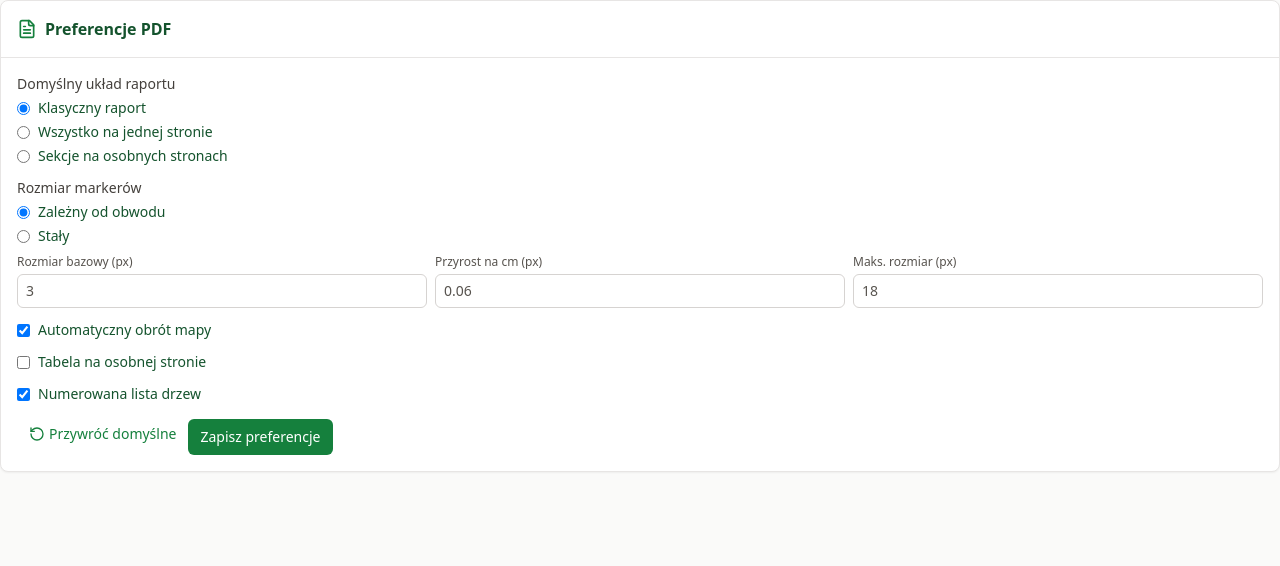
PdfPrefsEditor › should reject maxSize below baseSize
The image size is (1280, 566).
Replace the text in the number field with test id "config-marker-max" with "1" at (1058, 291), box [853,274,1263,308]
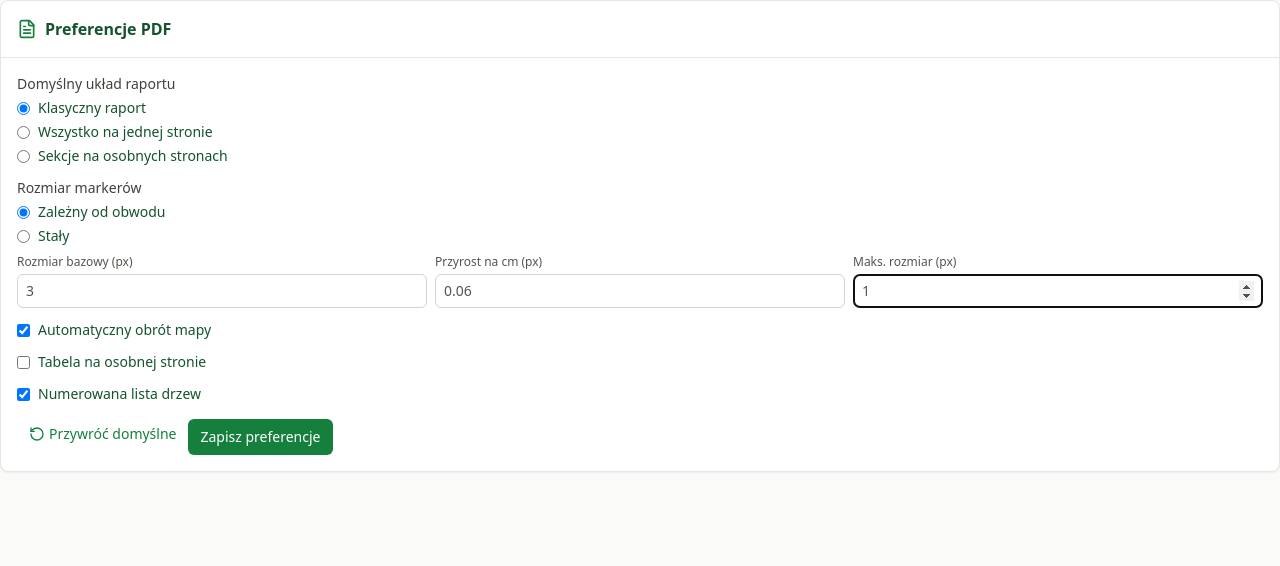
Click the button with test id "pdf-prefs-save".
click(260, 437)  # box [188,419,332,455]
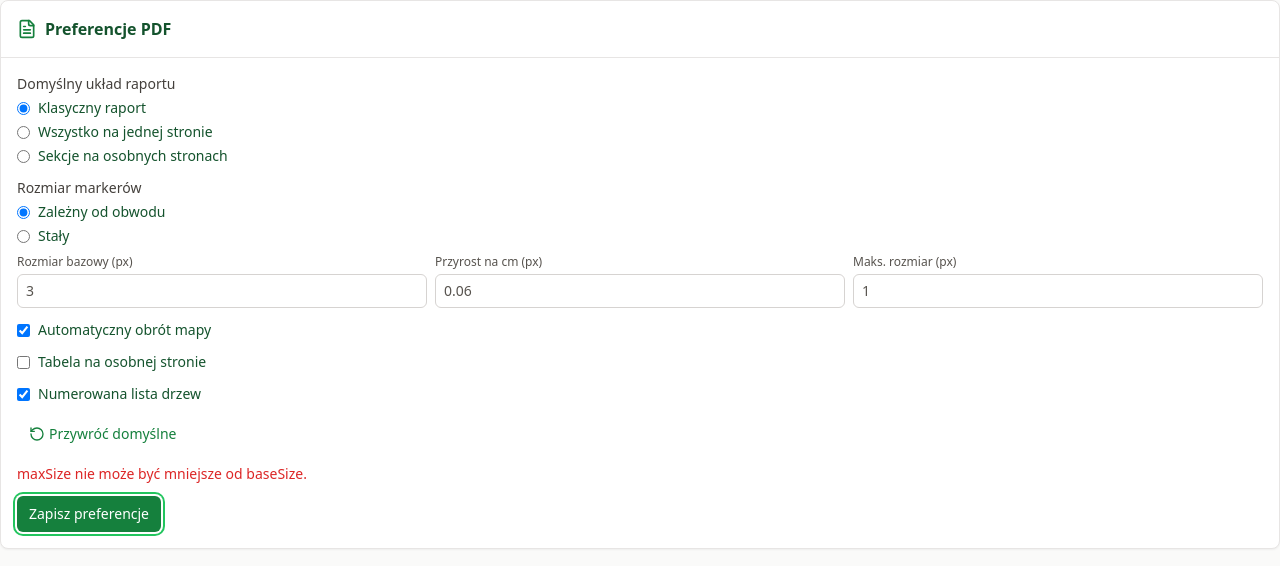
Expected: the message with test id "pdf-prefs-error" shows "od baseSize", [17,464,307,483]
